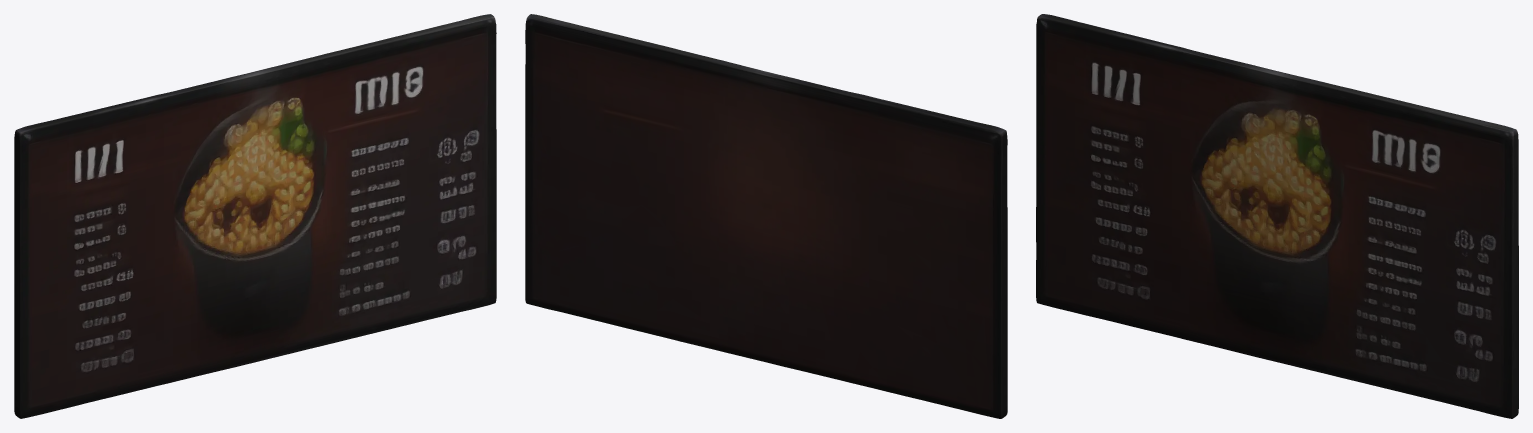
3 renders of one model, left to right at view 1: azimuth 30°, elevation 25°; view 2: azimuth 150°, elevation 25°; view 3: azimuth 330°, elevation 25°, orthographic.
Visible parts, largest first — view 1: geometry_0; view 2: geometry_0; view 3: geometry_0.
Boxes of the visible parts, left/top/right/bottom form: geometry_0: left=14, top=14, right=496, bottom=418; geometry_0: left=525, top=14, right=1007, bottom=418; geometry_0: left=1036, top=14, right=1518, bottom=418.
Bounding box in the file's own units: 1 × 0.5789 × 0.0244.
1 material, 1 textured.
